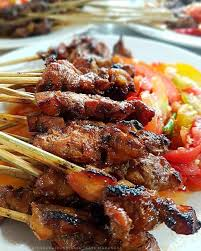sate: (15, 32, 201, 243)
